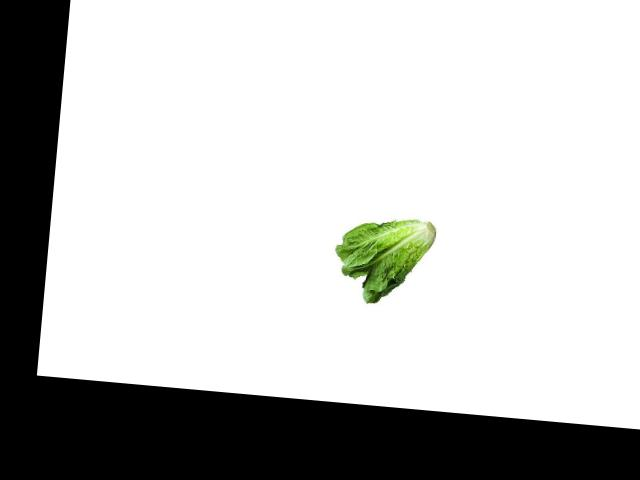lettuce: (331, 208, 434, 313)
